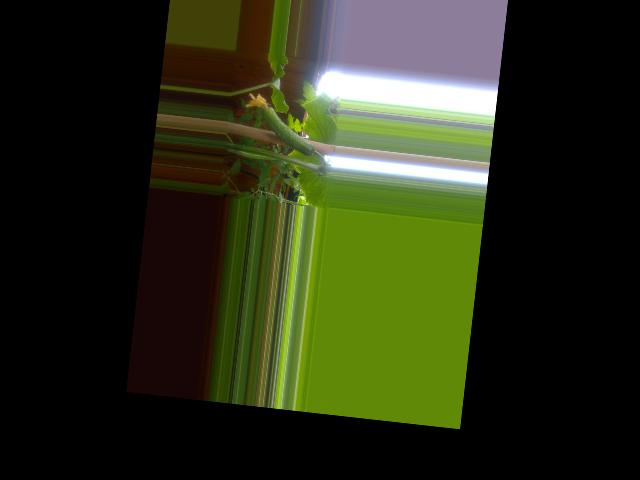cucumber: (240, 91, 320, 156)
